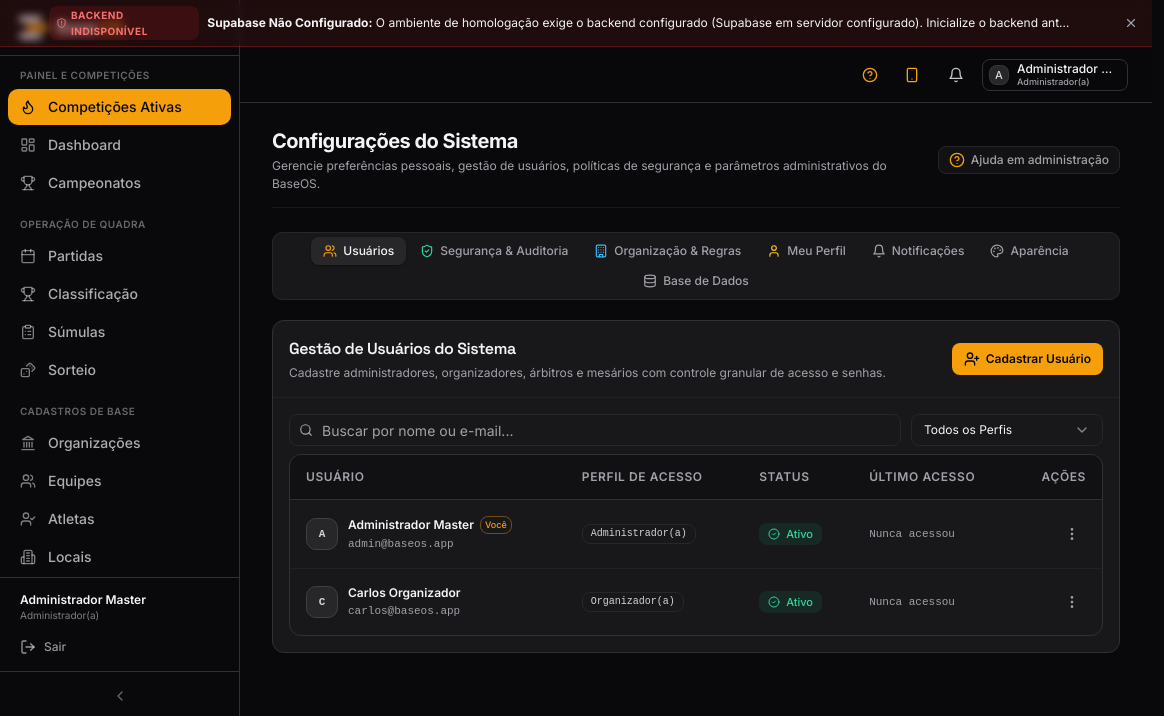
SettingsPage Component (Fase 8.4) › navega para a aba Organização & Regras e exibe os dados da entidade
Step 1. Click the tab "Organização & Regras" → {"x": 668, "y": 251}, box [582, 237, 753, 265]
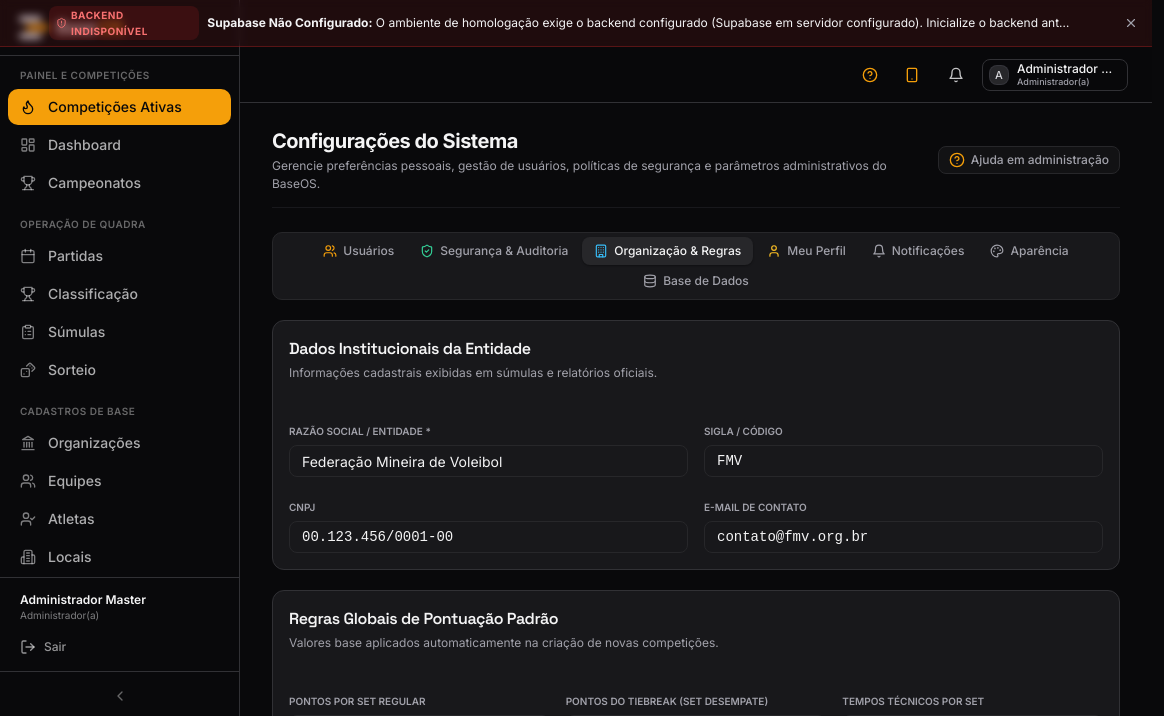
Result: the heading "Dados Institucionais da Entidade" is shown at [289, 338, 531, 359]
Result: the field showing "Federação Mineira de Voleibol" is shown at [289, 445, 688, 477]
Result: the field showing "FMV" is shown at [704, 445, 1103, 477]
